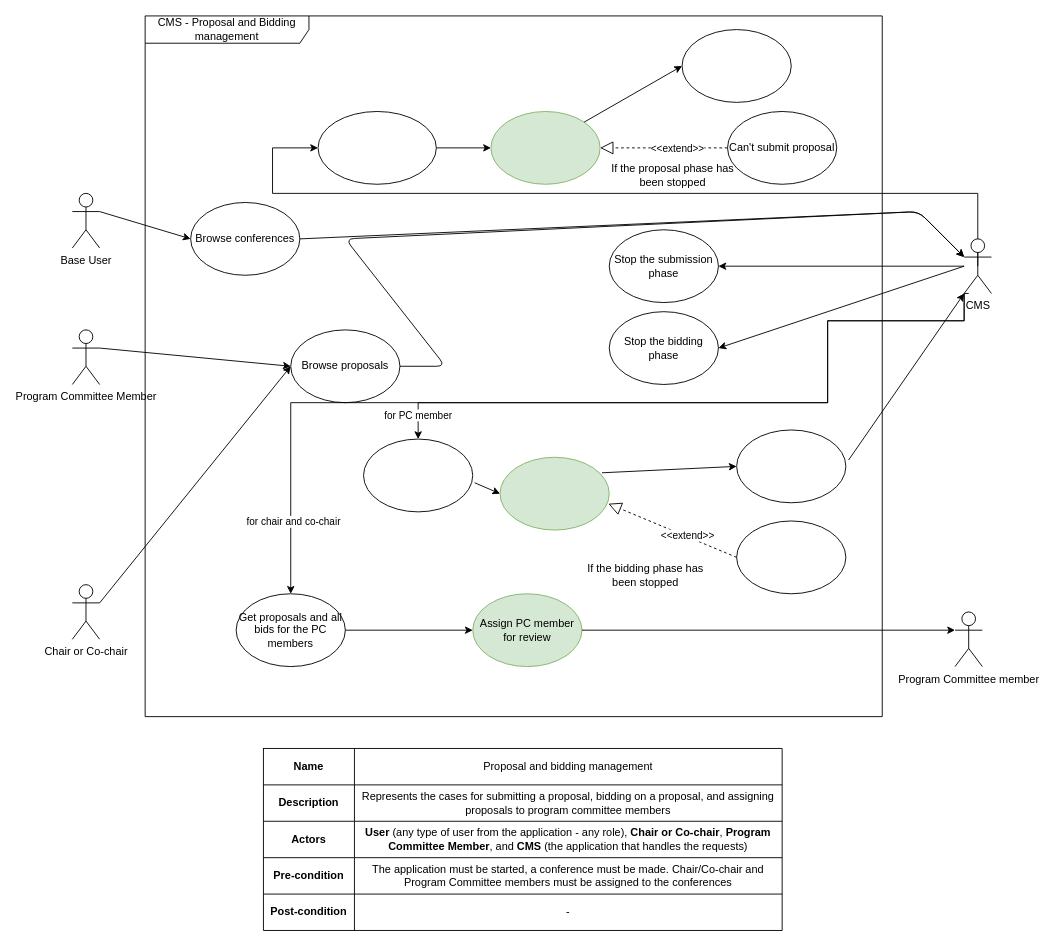
Image size: 1055x946. Some labels were removed from this diagram. The centre of each missing label's shape, as x and y in pixels:
Add authors and their metadata: (736,65)
Bid on proposal: (554,493)
Can't submit bid: (791,557)
Get all conferences for which the user isn't a chair or co-chair: (376,147)
Get proposal for which PC member isn't an author for: (418,475)
Submit bid: (791,466)
Submit proposal: (545,147)
